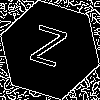Z: (25, 25, 69, 77)
